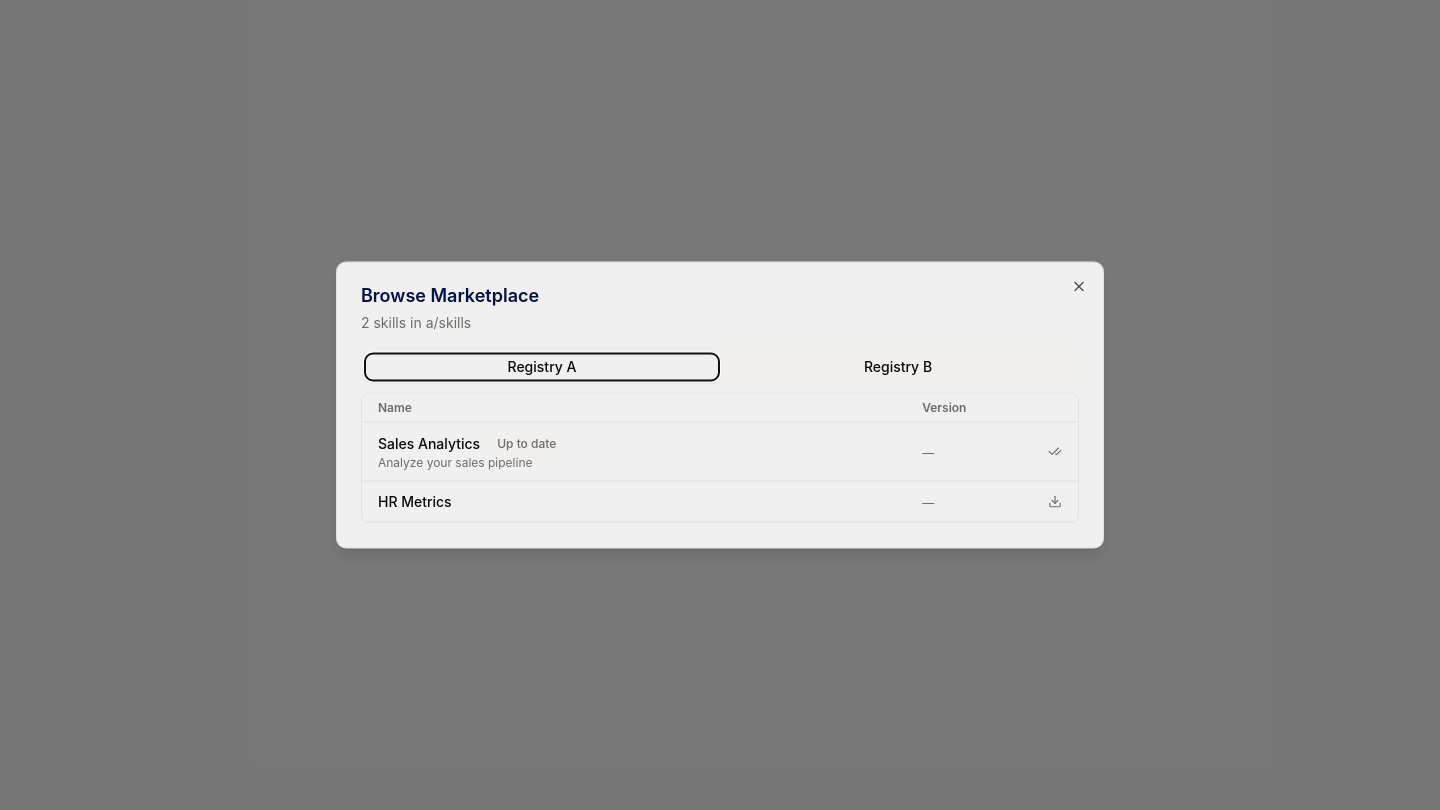
Test: GitHubImportDialog › Multiple registries › does not mark registry A skills as installed when browsing registry B
This screenshot has width=1440, height=810.
Expected: the text "Up to date" is shown, [488,432,565,454]
Click the tab "Registry B" at (898, 366), box [720,352,1076,381]
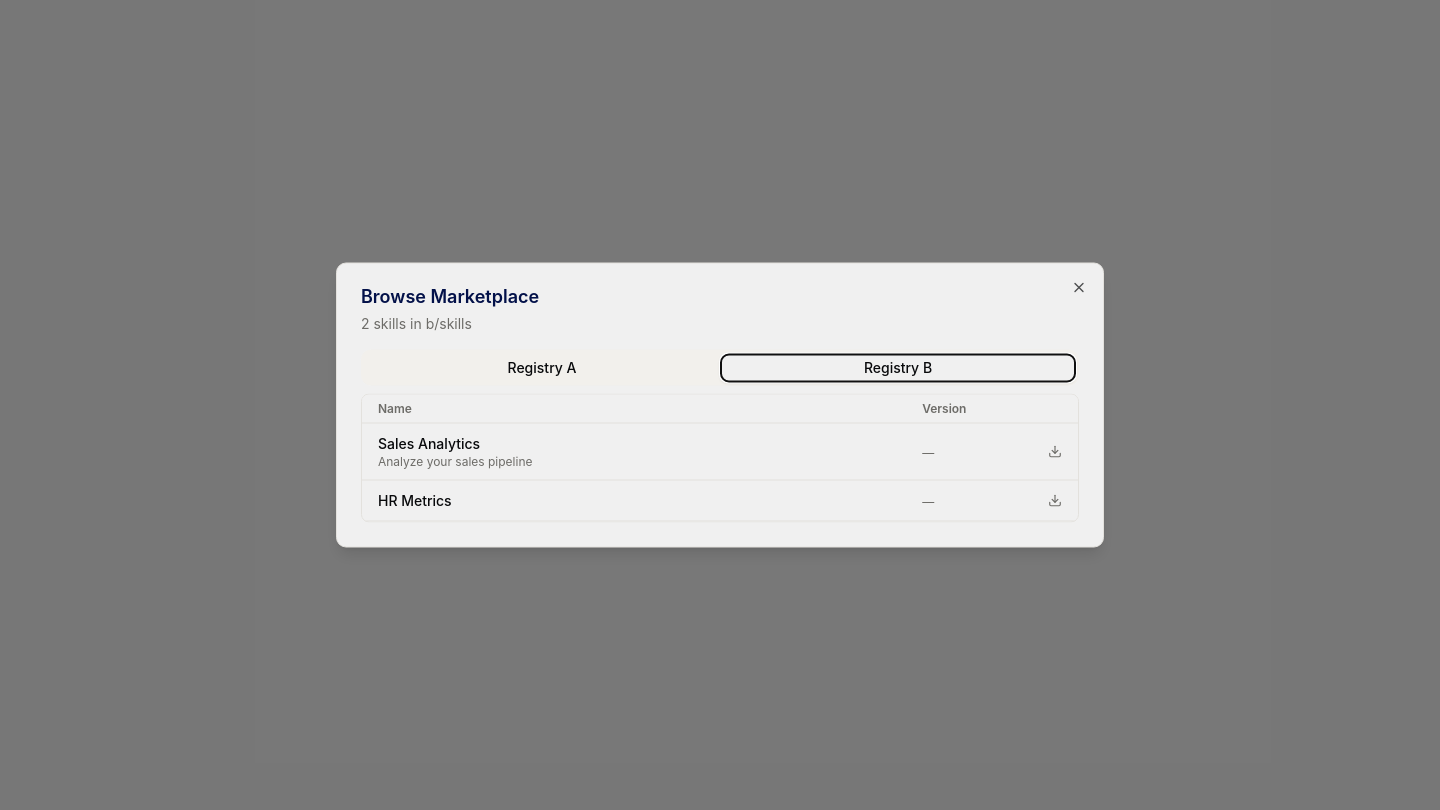
Expected: the text "Sales Analytics" is shown, [378,434,480,454]
Result: the text "Up to date" is gone
